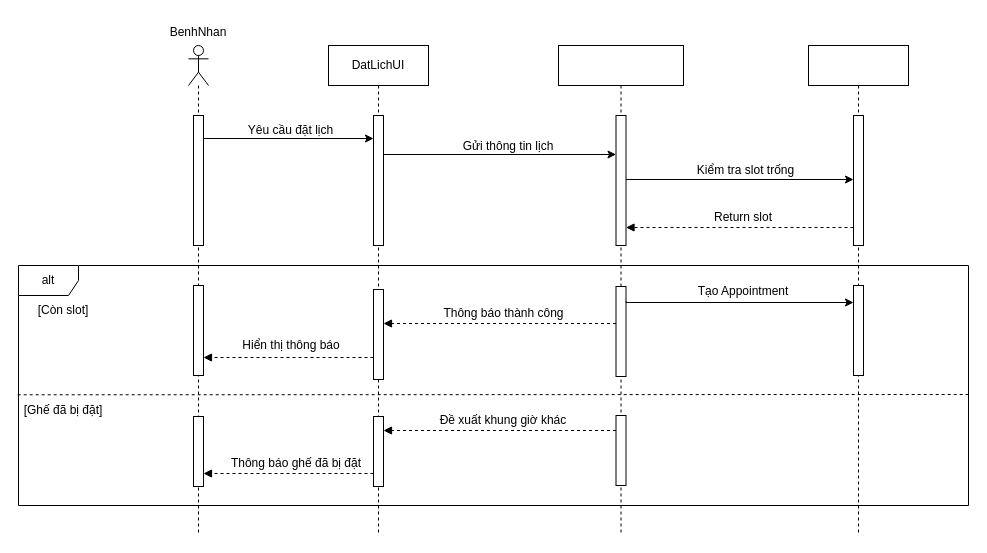
Image size: 987x553. Some labels were removed from this diagram. Each missing label, with the centre of its shape:
"AppointmentService" goes at (621,290).
"CSDL" goes at (858,290).
